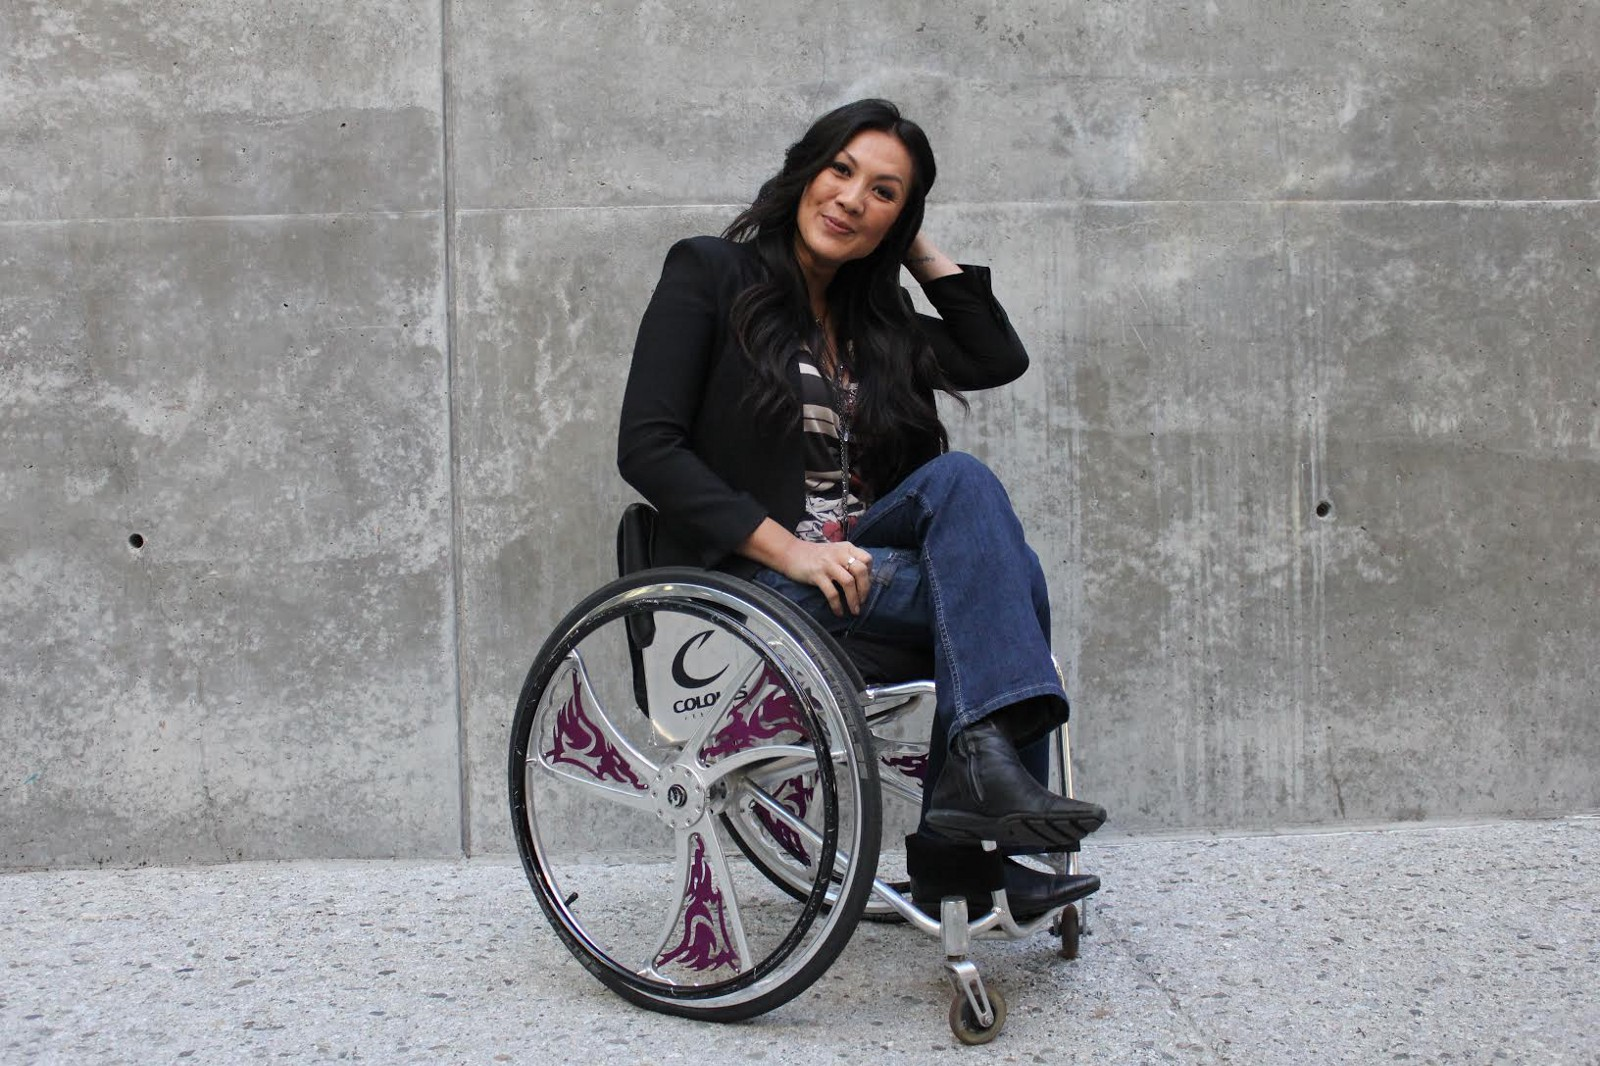person: (629, 73, 1054, 609)
wheelchair: (501, 567, 1040, 1050)
